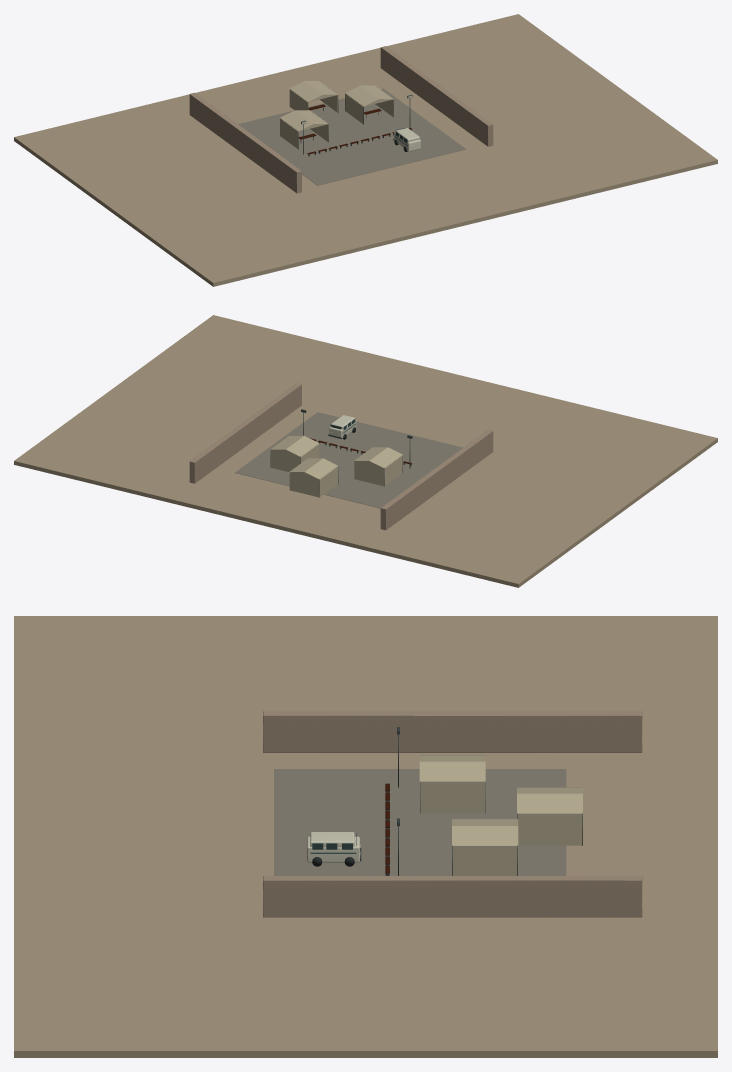
File: reception-v1.glb
3 views of the same model, one above another, from view 1: azimuth 30°, elevation 25°; view 2: azimuth 150°, elevation 25°; view 3: azimuth 270°, elevation 25° (orthographic). The views are drawn at different scales.
Visible parts, largest first — view 1: reception / Riverbank soil, reception / Packed gravel, reception / Lime plaster, reception / Shelter canvas, reception / Light field paint; view 2: reception / Riverbank soil, reception / Packed gravel, reception / Lime plaster, reception / Shelter canvas; view 3: reception / Riverbank soil, reception / Lime plaster, reception / Packed gravel, reception / Shelter canvas, reception / Light field paint.
Boxes of the visible parts, x1,y1,x2,y2 form: reception / Riverbank soil: (14, 14, 717, 286); reception / Packed gravel: (238, 88, 466, 185); reception / Lime plaster: (189, 46, 493, 193); reception / Shelter canvas: (280, 81, 393, 148); reception / Light field paint: (302, 95, 420, 151); reception / Riverbank soil: (14, 315, 717, 587); reception / Packed gravel: (235, 412, 462, 508); reception / Lime plaster: (189, 383, 493, 530); reception / Shelter canvas: (271, 435, 402, 497); reception / Riverbank soil: (14, 616, 717, 1057); reception / Lime plaster: (263, 711, 642, 917); reception / Packed gravel: (274, 769, 566, 875); reception / Shelter canvas: (419, 755, 582, 875); reception / Light field paint: (307, 832, 360, 862).
Size of the model in its own units: 95 by 6.7 by 65.
10 materials, 2 textured.
